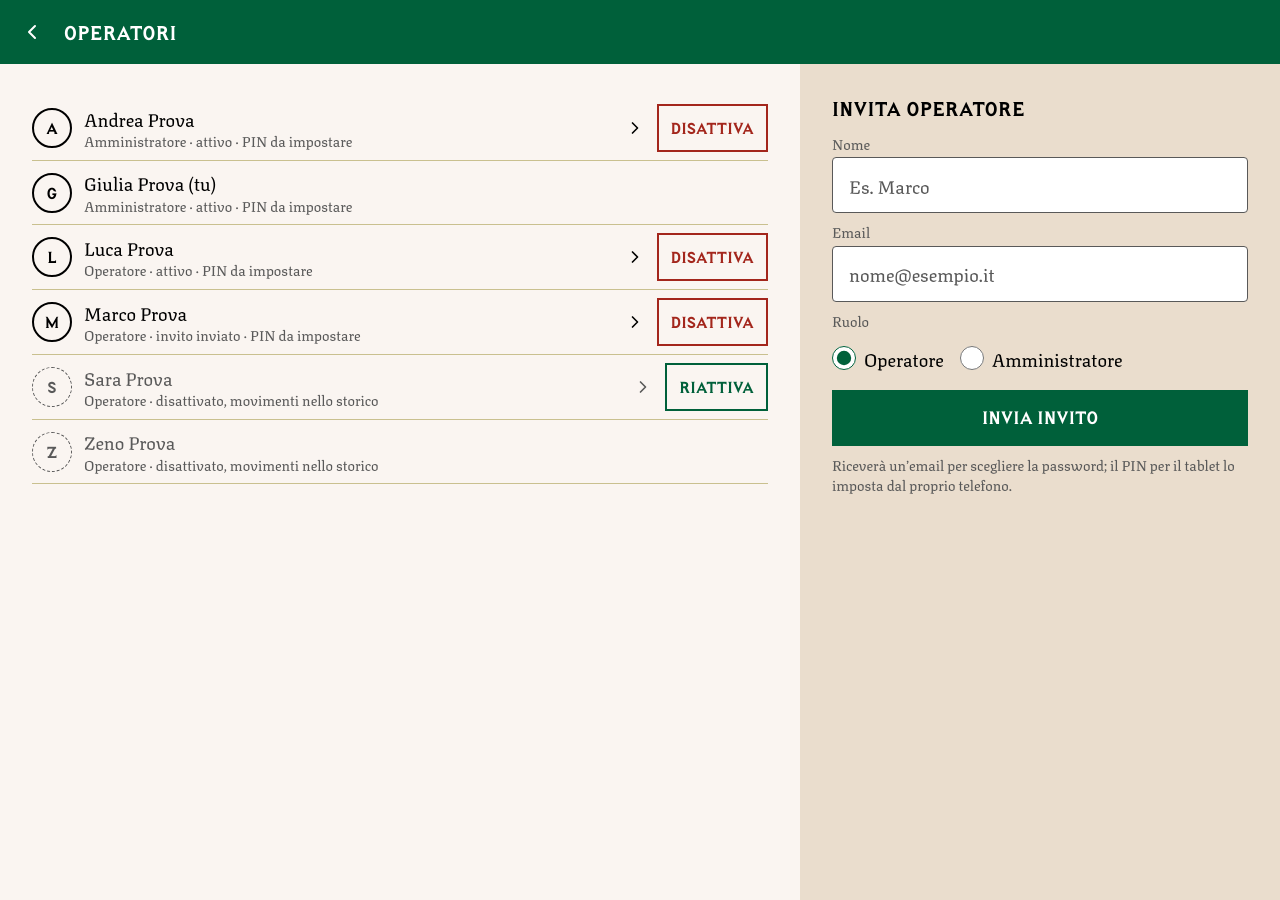
it: OperatorDialog: the role › self: the text in the dialog, nothing reloaded
Click the button "Luca Prova Operatore · attivo · PIN da impostare".
click(129, 247)  # box [84,233,644,281]
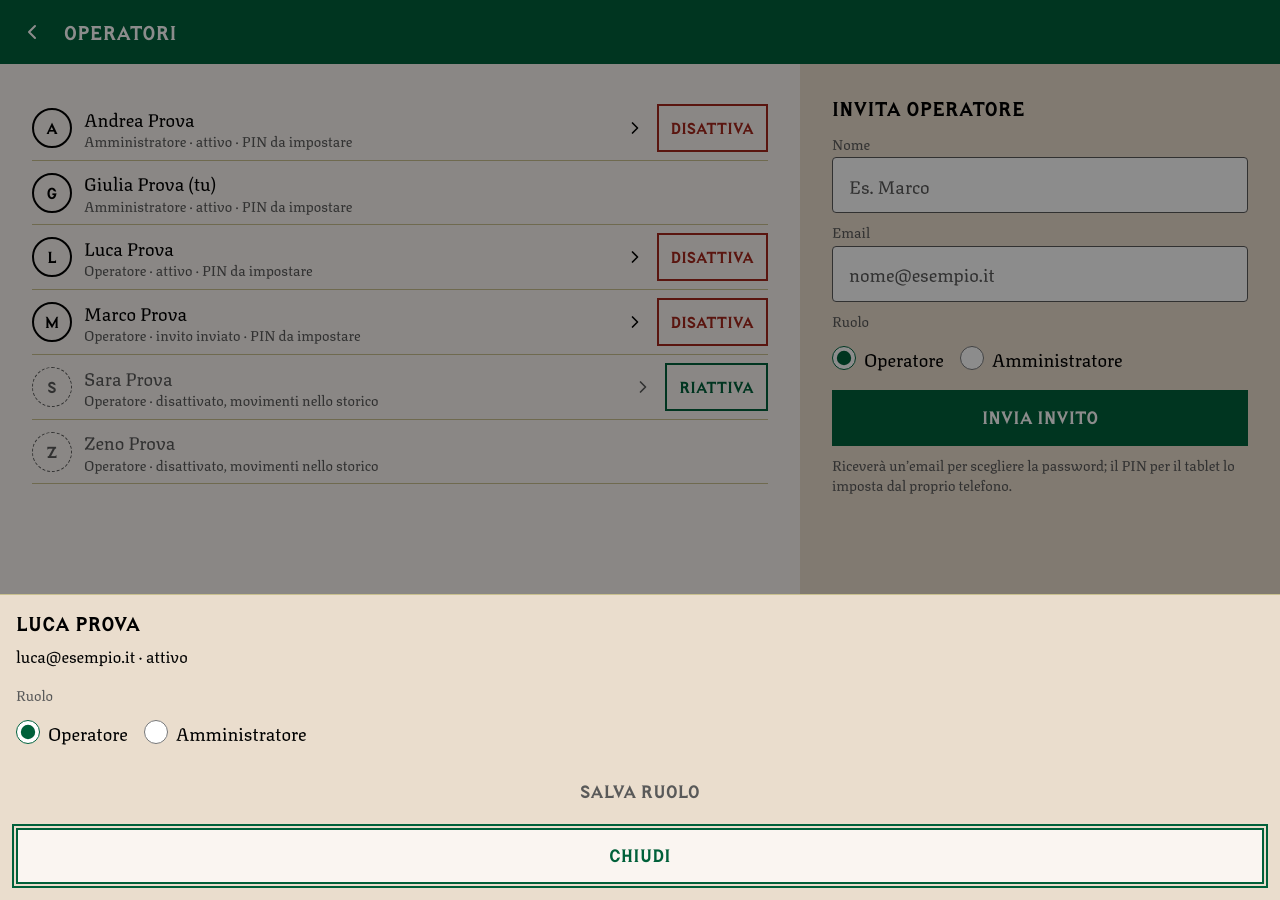
Click the radio button labelled "Amministratore".
click(156, 732)  # box [144,720,168,744]
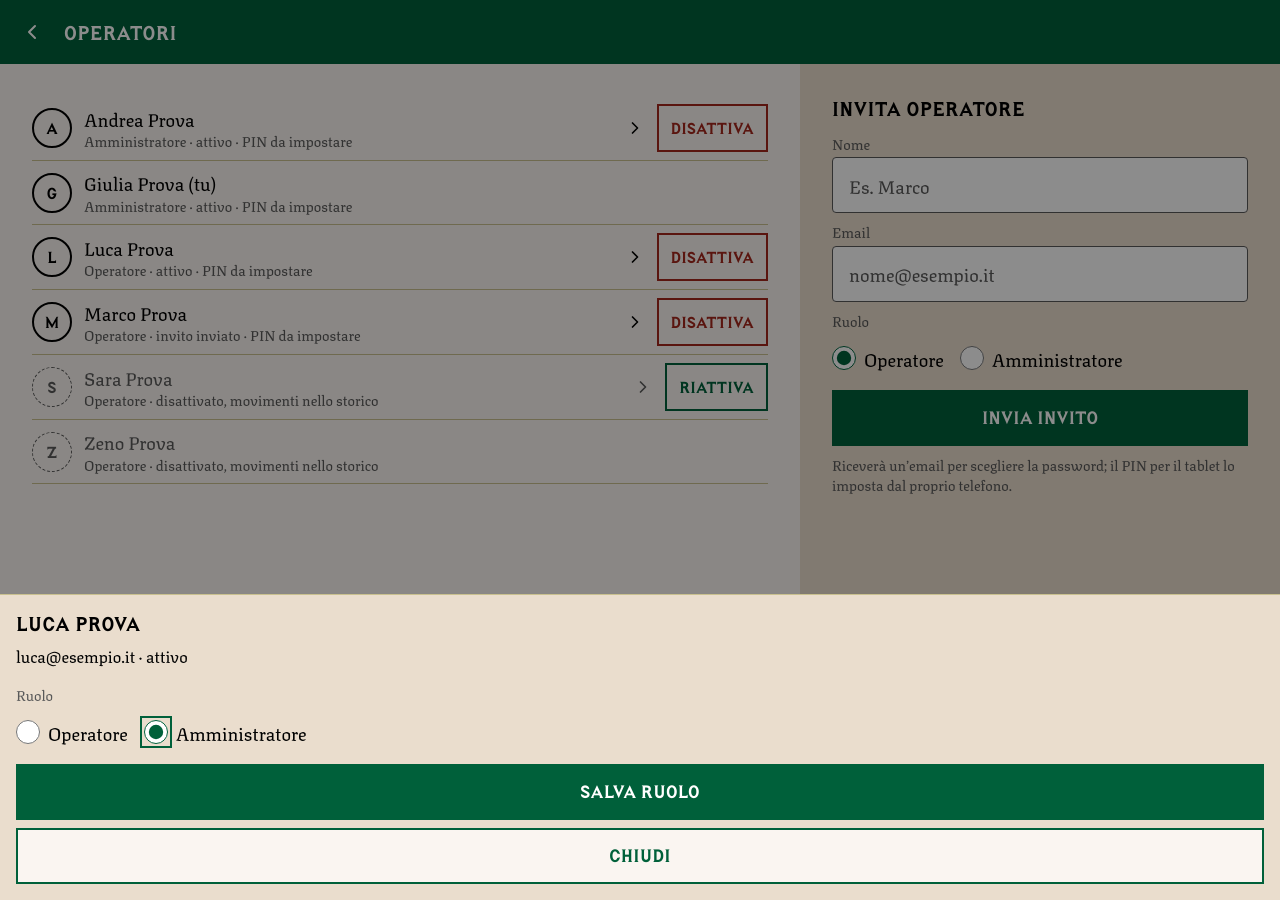
Click the button "Salva ruolo".
click(640, 792)  # box [16,764,1264,820]
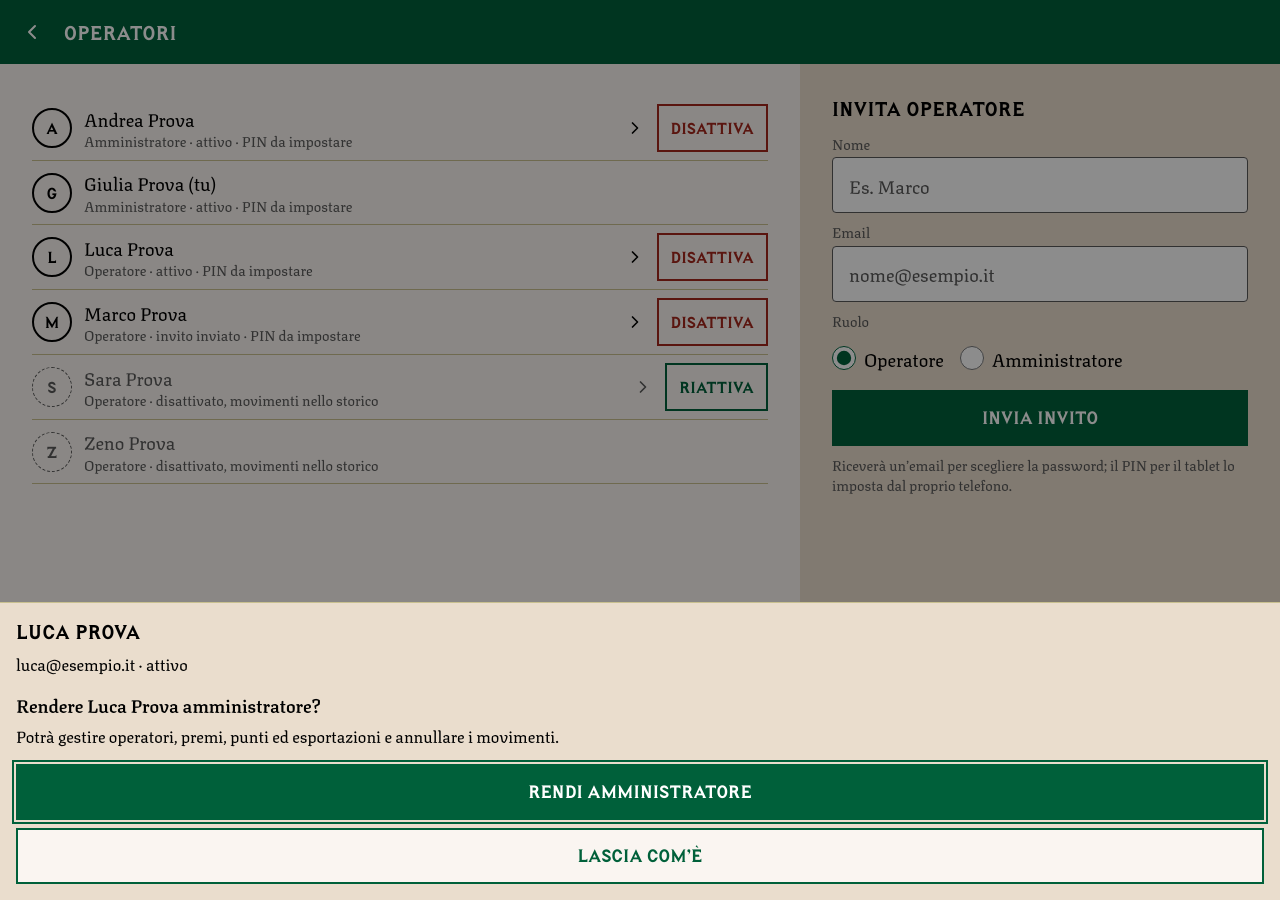
Click the button "Rendi amministratore".
click(640, 792)  # box [16,764,1264,820]
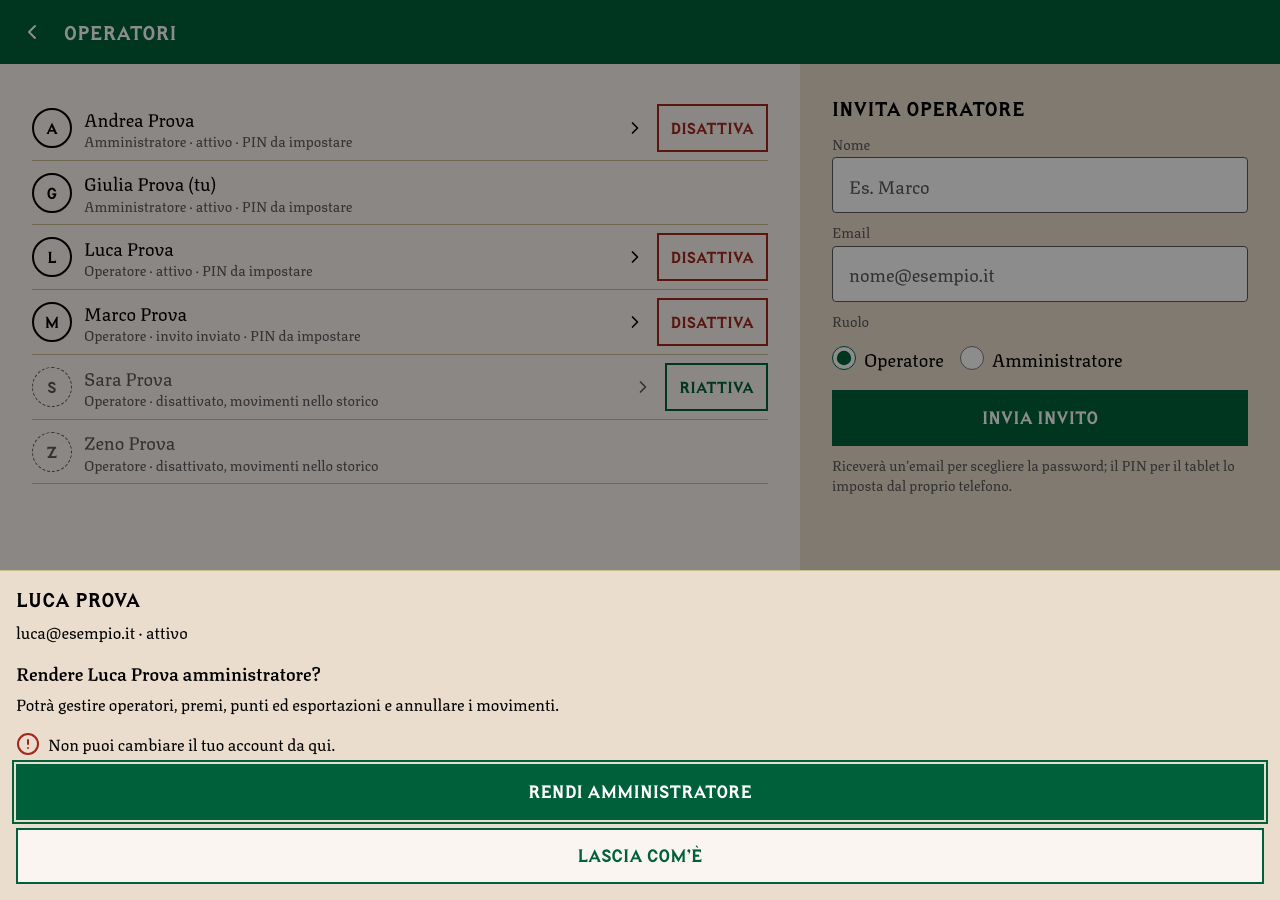
Expected: the message reads "Non puoi cambiare il tuo account da qui.", [48,731,335,756]
